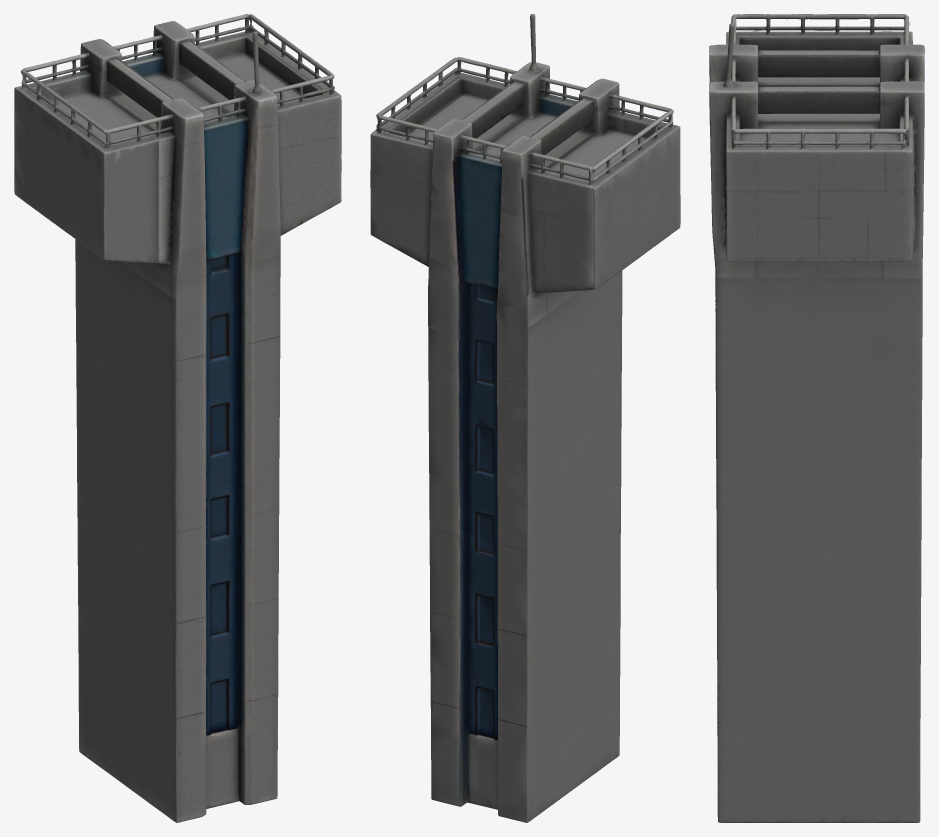
The model's file is water-tower.glb.
The picture shows the model from 3 angles, left to right: view 1: azimuth 30°, elevation 25°; view 2: azimuth 150°, elevation 25°; view 3: azimuth 270°, elevation 25°; orthographic projection. The views are drawn at different scales.
Visible parts, largest first — view 1: tripo_node_1c9450b6-41d2-40c1-afc4-1d3e3951226f; view 2: tripo_node_1c9450b6-41d2-40c1-afc4-1d3e3951226f; view 3: tripo_node_1c9450b6-41d2-40c1-afc4-1d3e3951226f.
Part boxes in pixels (left/top/right/bottom): tripo_node_1c9450b6-41d2-40c1-afc4-1d3e3951226f: left=14, top=14, right=341, bottom=822; tripo_node_1c9450b6-41d2-40c1-afc4-1d3e3951226f: left=370, top=14, right=680, bottom=822; tripo_node_1c9450b6-41d2-40c1-afc4-1d3e3951226f: left=709, top=14, right=924, bottom=822.
Size of the model in its own units: 0.3251 by 1 by 0.2469.
Materials: 1 (1 with a texture image).
